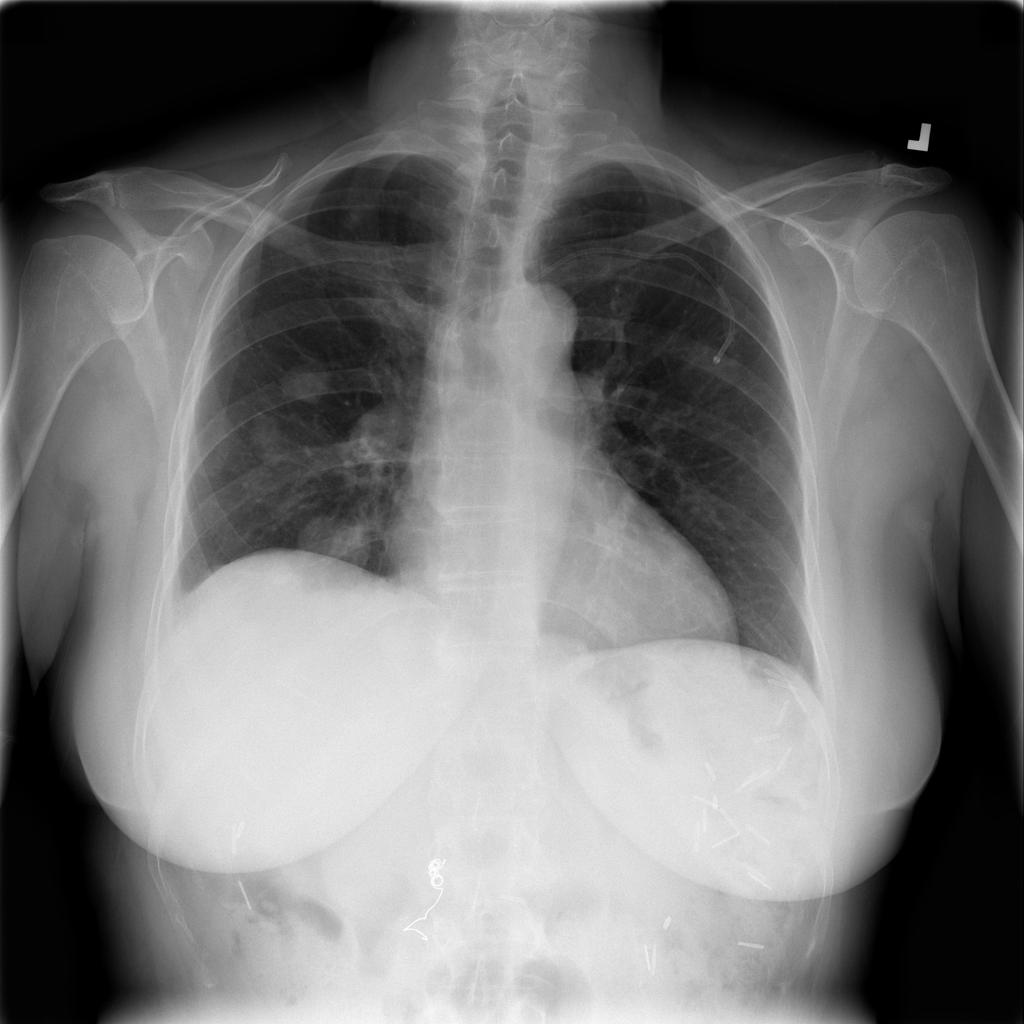nodule: (277, 495, 393, 594), (267, 347, 341, 416)
